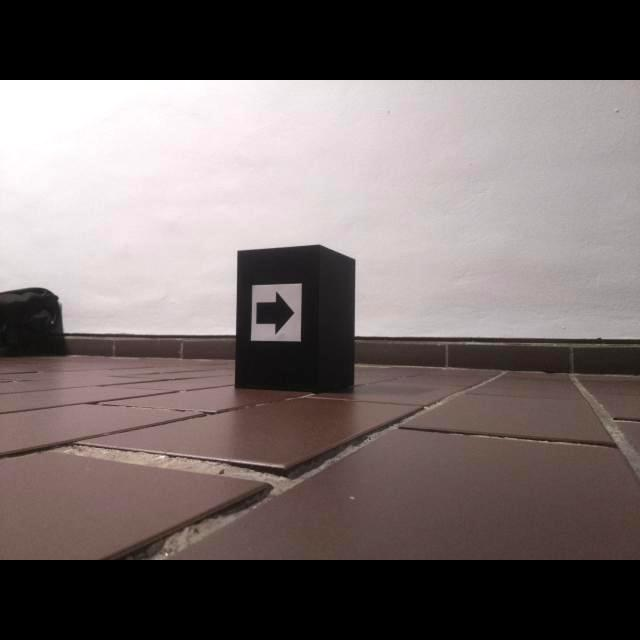RIGHT: (256, 290, 295, 336)
